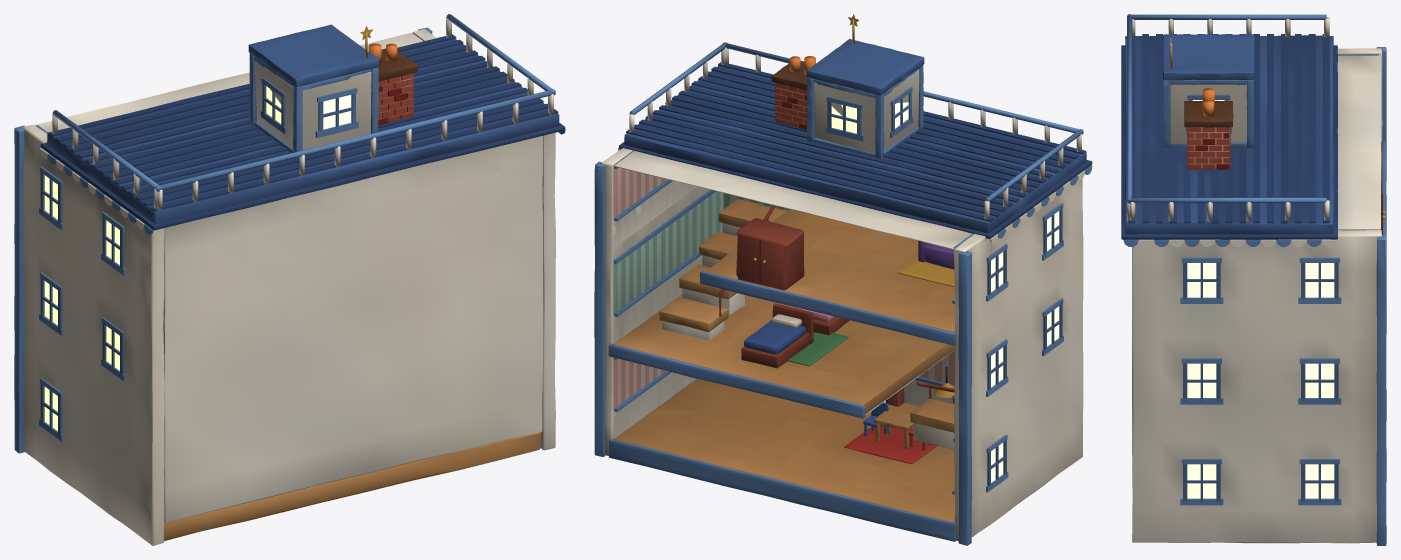
File: den_dollhouse.glb
3 views of the same model, side by side, from view 1: azimuth 30°, elevation 25°; view 2: azimuth 150°, elevation 25°; view 3: azimuth 270°, elevation 25° (orthographic). The views are drawn at different scales.
Parts seen in each view (by area): view 1: den_dollhouse; view 2: den_dollhouse; view 3: den_dollhouse.
Boxes of the visible parts, x1=… form: den_dollhouse: x1=14, y1=14, x2=565, y2=545; den_dollhouse: x1=594, y1=14, x2=1092, y2=545; den_dollhouse: x1=1121, y1=14, x2=1386, y2=545.
Size of the model in its own units: 32.82 by 34.01 by 19.13.
